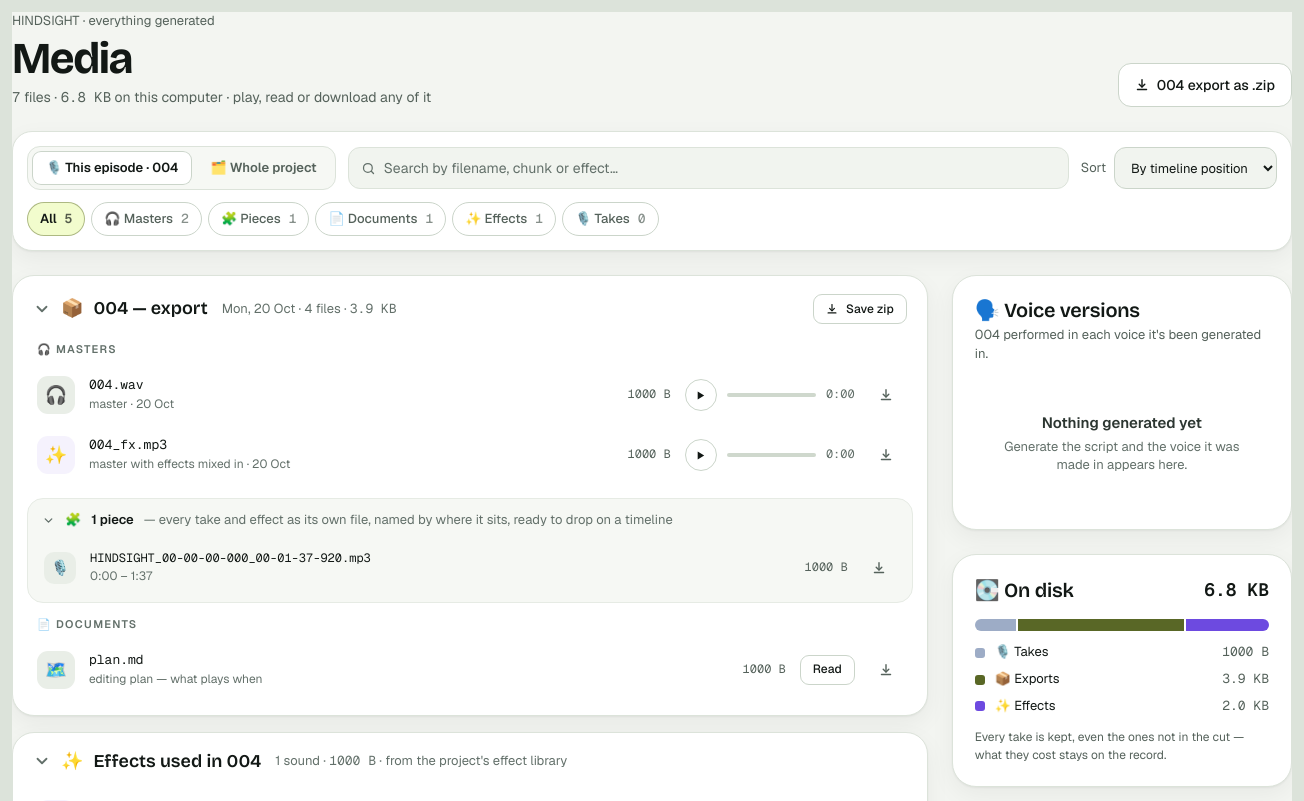
Test: an episode's zip goes where the exports go › is saved beside the episode folders, not downloaded, when exports have a folder
The width and height of the screenshot is (1304, 801).
Click the button "Save zip" at x=860, y=309, box [813,294,907,324]
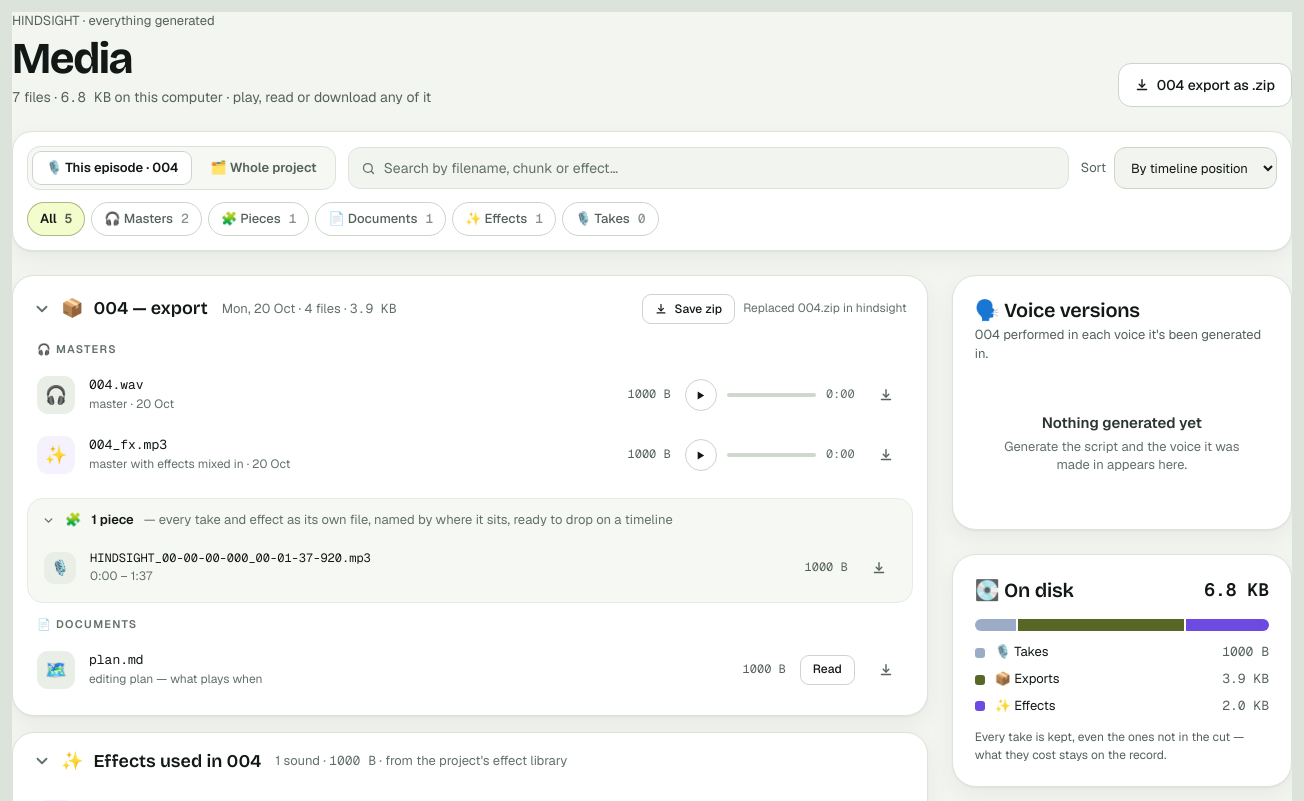
Check: the text "Replaced 004.zip in hindsight" is shown, box [743,300,907,318]
